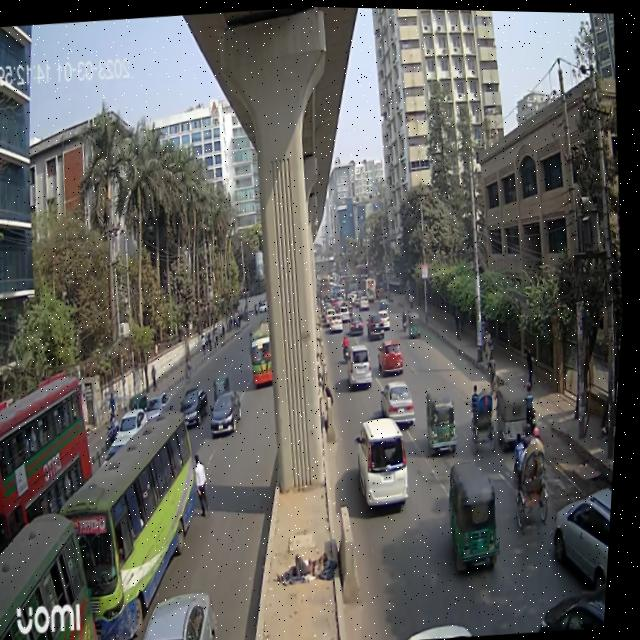cng: (448, 457, 517, 571), (427, 386, 468, 457), (130, 385, 155, 425), (214, 372, 236, 412), (409, 305, 429, 345)
rikshaw: (507, 422, 559, 526), (470, 383, 503, 456)
